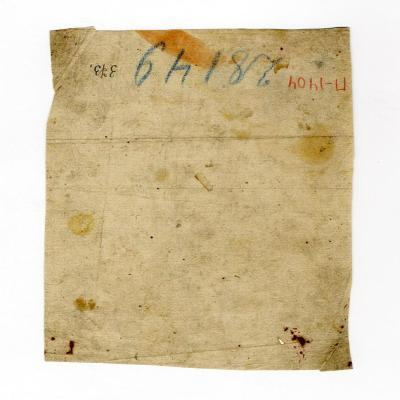graphics: (42, 27, 355, 372)
